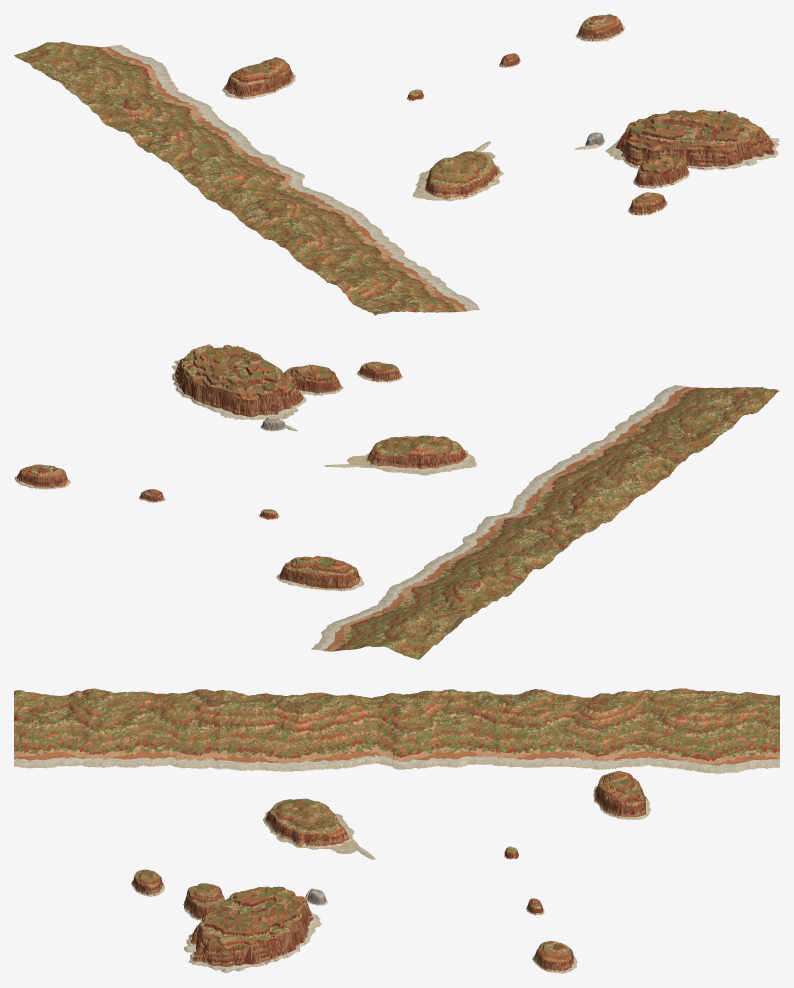
File: bay.glb
3 views of the same model, one above another, from view 1: azimuth 30°, elevation 25°; view 2: azimuth 150°, elevation 25°; view 3: azimuth 270°, elevation 25° (orthographic). The views are drawn at different scales.
Parts seen in each view (by area): view 1: bay_land; view 2: bay_land; view 3: bay_land.
Boxes of the visible parts, x1,y1,x2,y2 form: bay_land: [14, 14, 779, 315]; bay_land: [14, 344, 779, 659]; bay_land: [14, 688, 779, 973].
Size of the model in its own units: 1293 by 70.32 by 1600.
